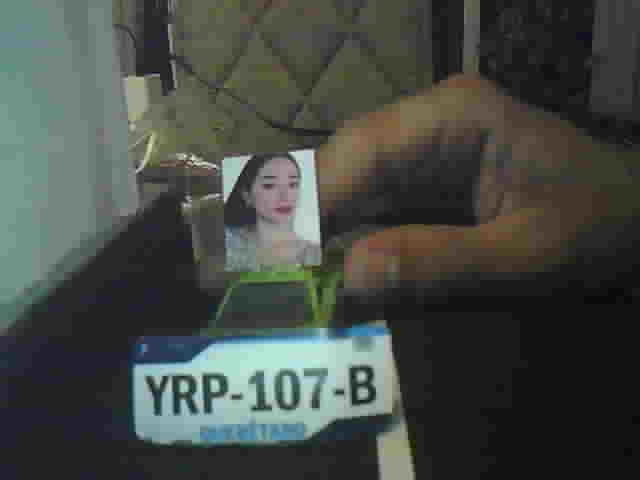PLACA: (130, 327, 394, 448)
ROSTRO: (222, 148, 321, 270)
